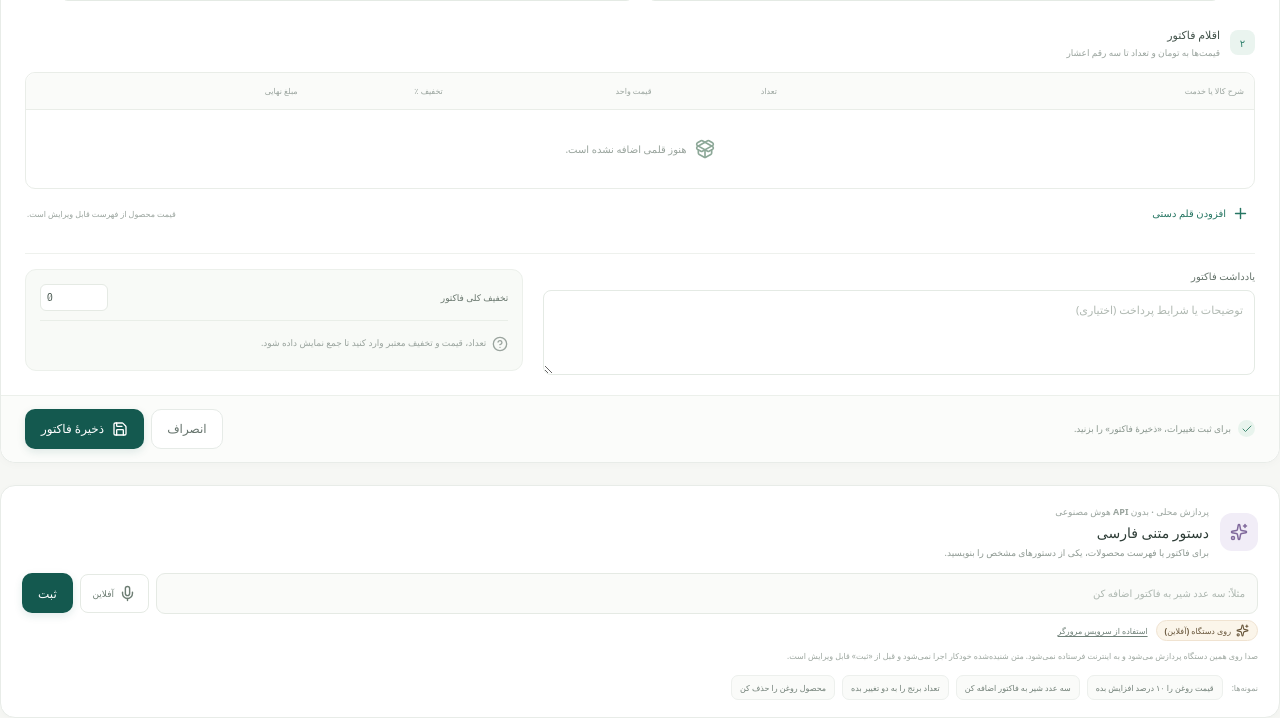
Test: اتصال موتور آفلاین شنوا به فرم فاکتور › روی iPhone میکروفن به موتور آفلاین وصل می‌شود و Web Speech شروع نمی‌شود
(page scrolled)
Click the button "آفلاین". click: (114, 593)
box: [80,574,149,613]
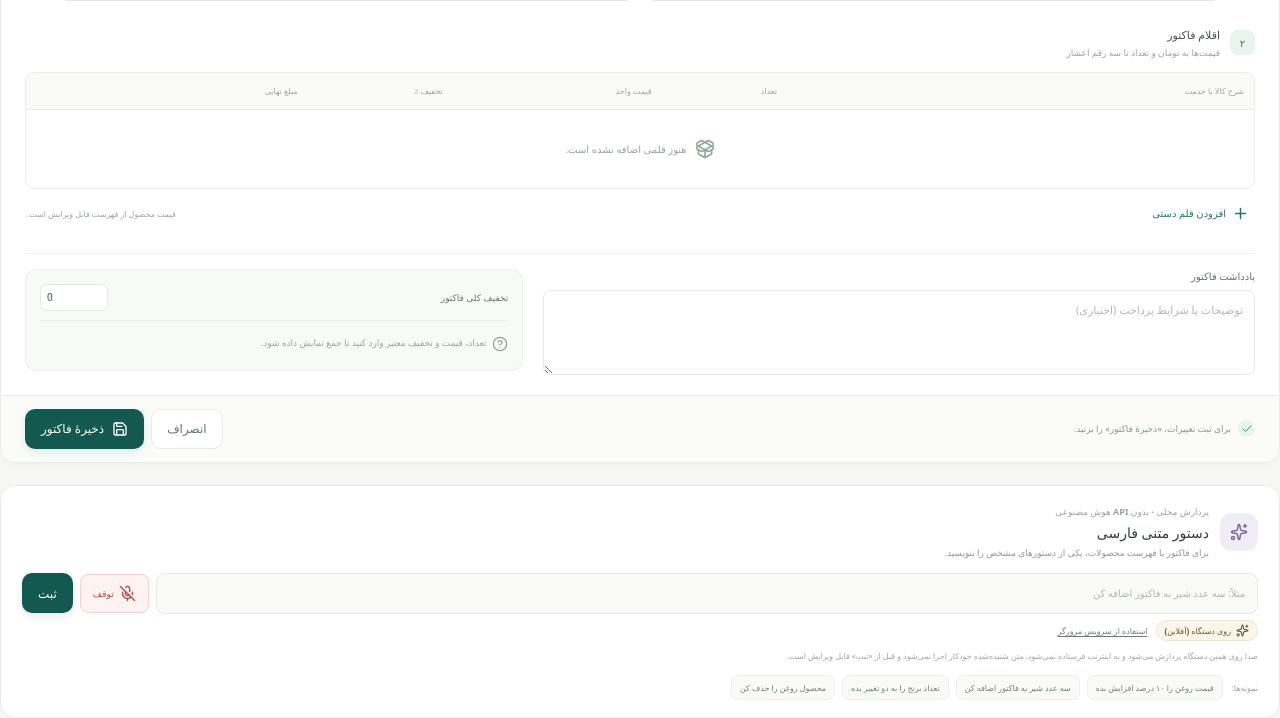
Expected: the button "توقف" has attribute aria-label="توقف ضبط موتور آفلاین"
Click the button "توقف". click: (114, 593)
box: [80,574,149,613]
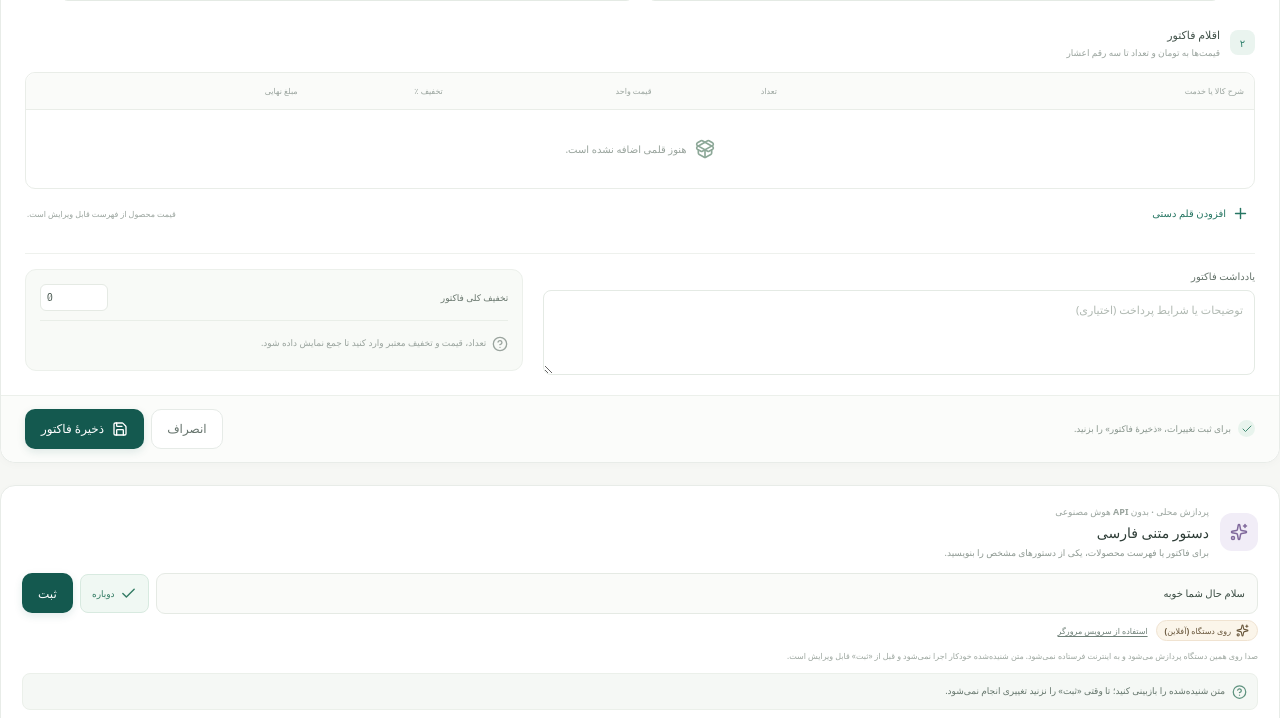
Expected: the field named "نوشتن دستور فارسی" holds "سلام حال شما خوبه", [156,573,1258,614]
Expected: the text "متن شنیده‌شده را بازبینی کنید؛ تا وقتی «ثبت» را نزنید تغییری انجام نمی‌شود." is shown, [22,673,1258,710]
